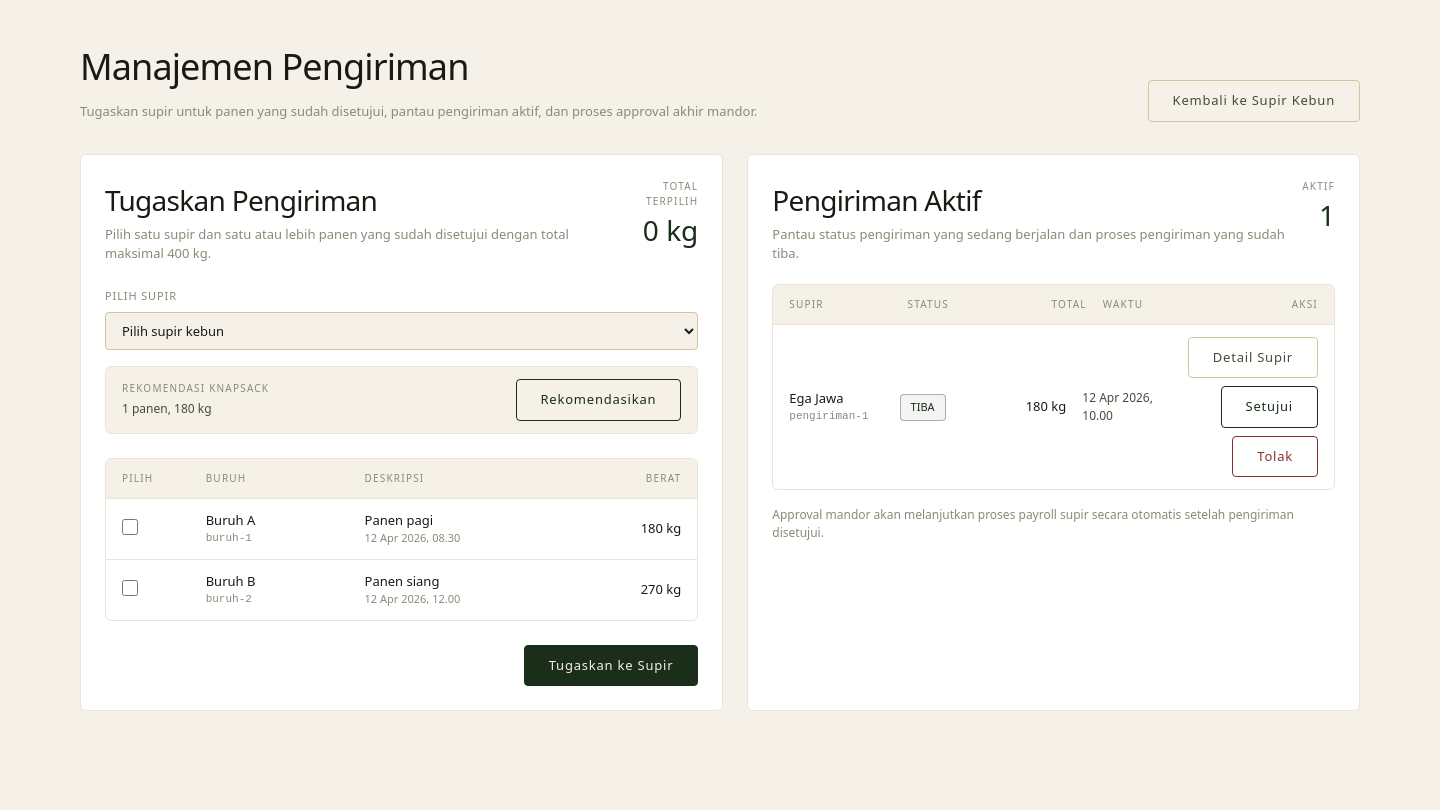
Scenario: MandorPengirimanPage › requires supir and panen before assigning a delivery
Step 1. Click the button "Tugaskan ke Supir" → point(611, 665), box [524,644,698,686]
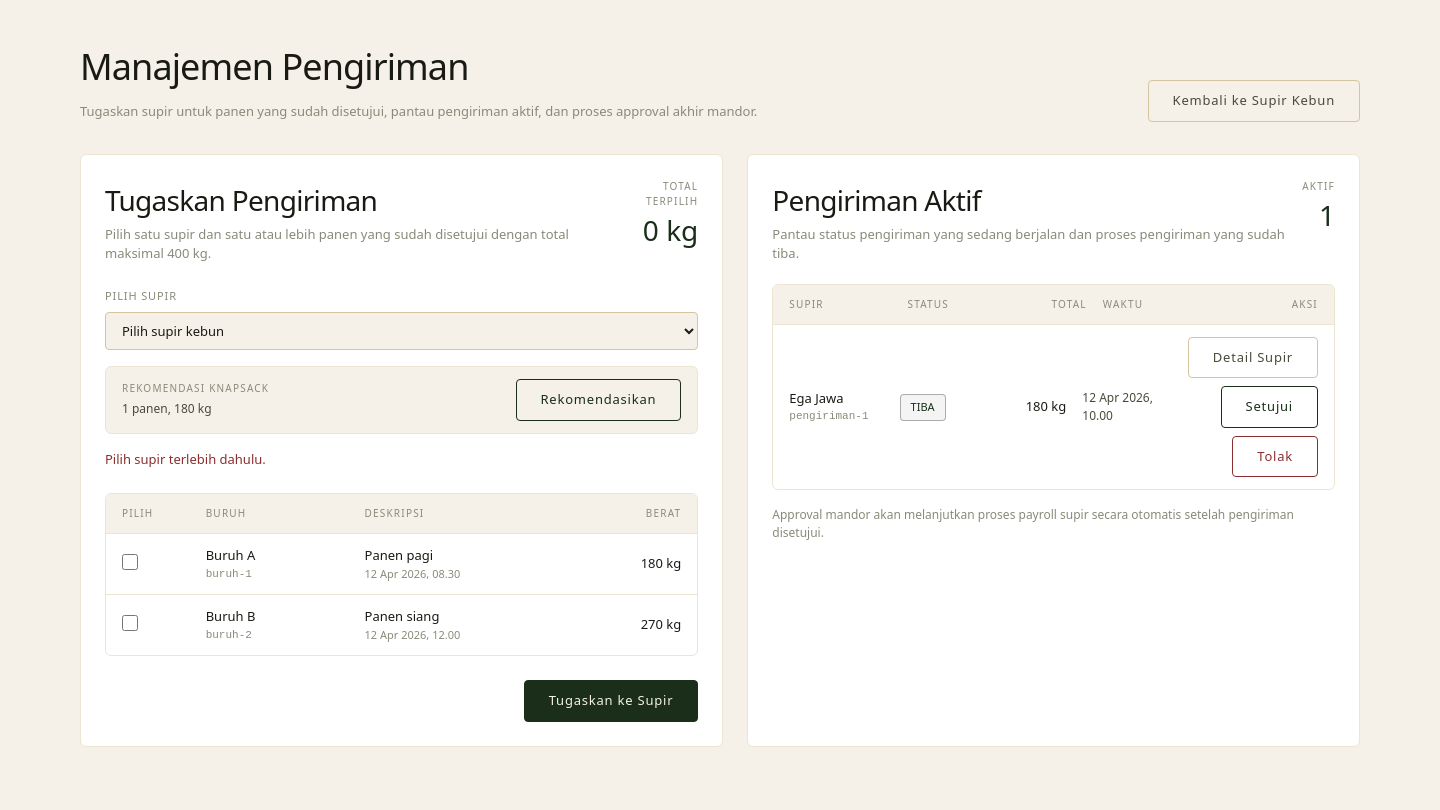
Now the text "Pilih supir terlebih dahulu." is shown, box [105,450,266,468]
Step 2. Select "Ega Jawa (ega)" in the dropdown showing "pilih supir kebun" → point(402, 331), box [105,312,698,350]
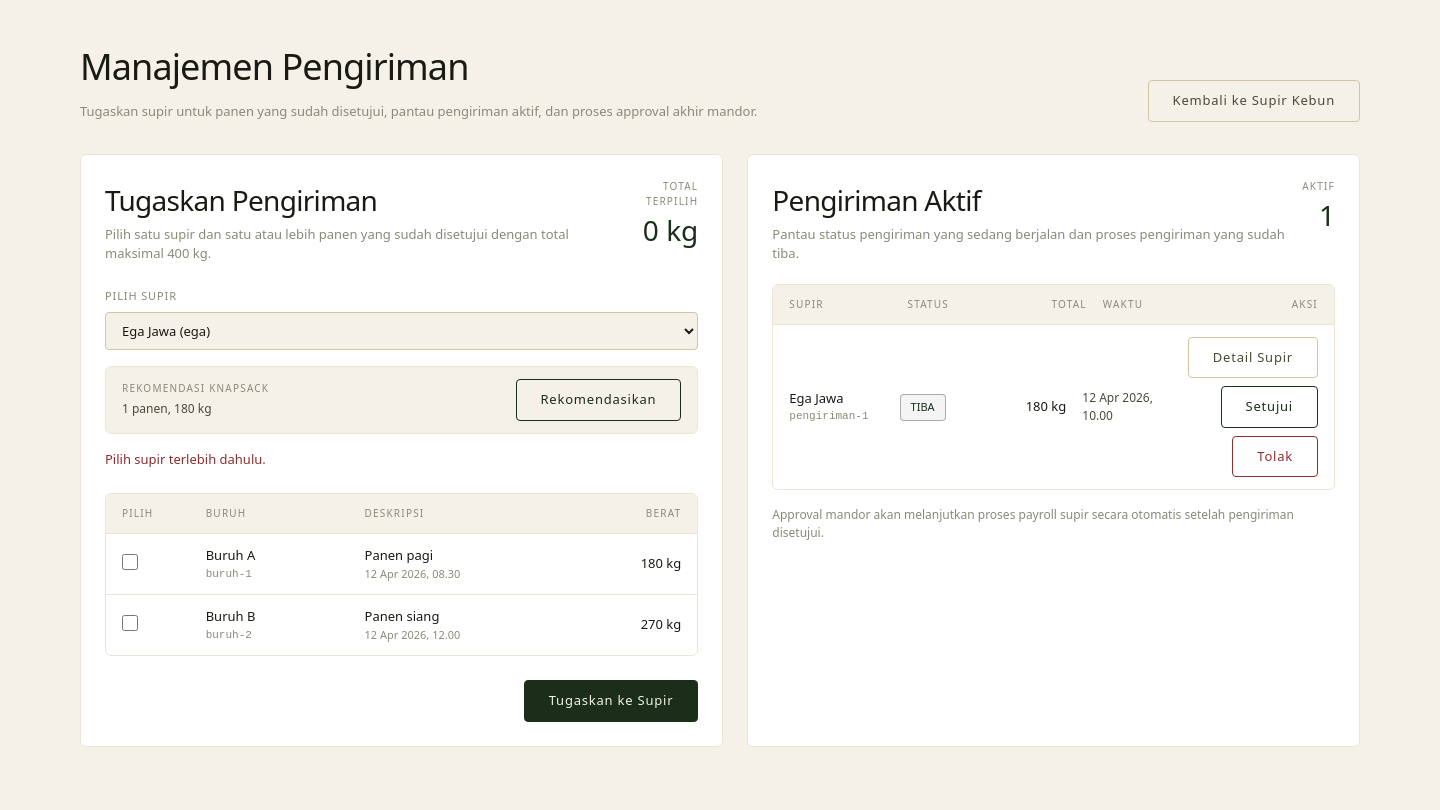
Step 3. Click the button "Tugaskan ke Supir" → point(611, 701), box [524,680,698,722]
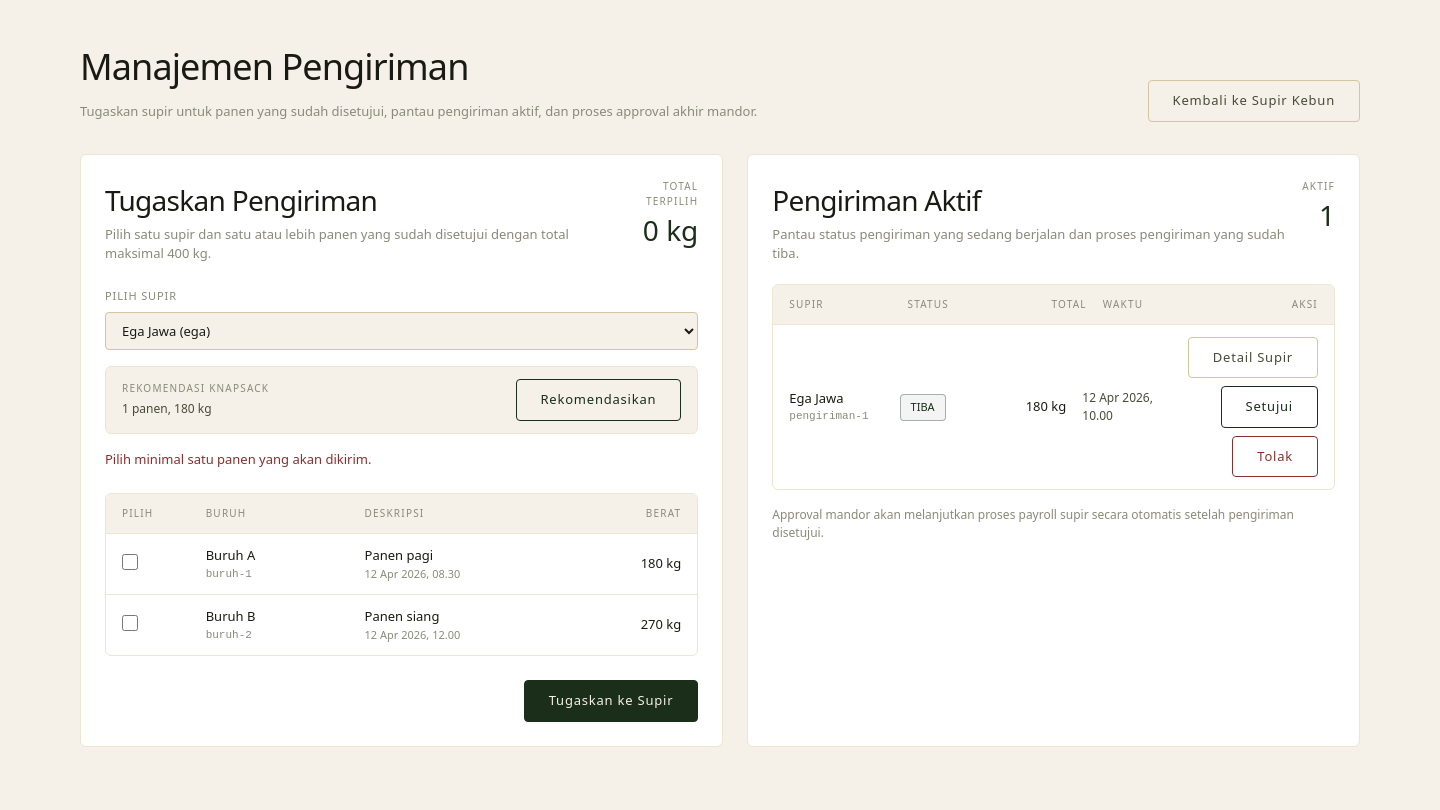
Now the text "Pilih minimal satu panen yang akan dikirim." is shown, box [105,450,371,468]
